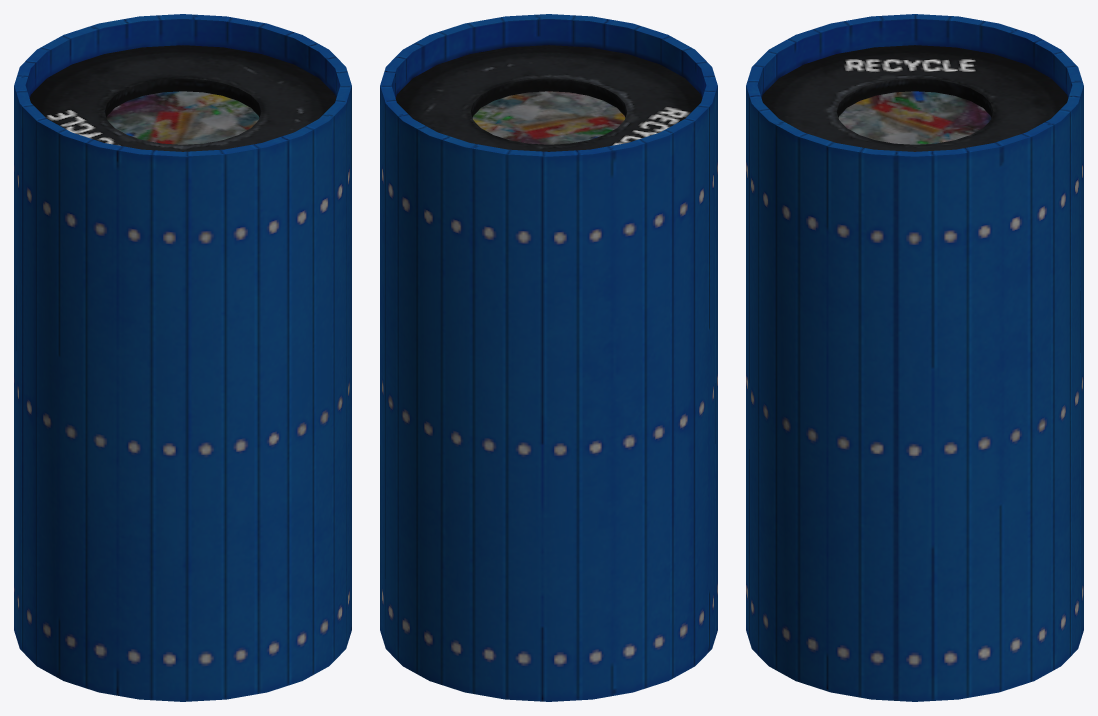
File: MB_Urn_01.fbx
3 views of the same model, side by side, from view 1: azimuth 30°, elevation 25°; view 2: azimuth 150°, elevation 25°; view 3: azimuth 270°, elevation 25° (orthographic).
Visible parts, largest first — view 1: MB_Urn_01_LOD0; view 2: MB_Urn_01_LOD0; view 3: MB_Urn_01_LOD0.
Boxes of the visible parts, bbox=[...] form: MB_Urn_01_LOD0: bbox=[14, 14, 351, 701]; MB_Urn_01_LOD0: bbox=[380, 14, 717, 701]; MB_Urn_01_LOD0: bbox=[746, 14, 1083, 701].
Size of what is drawn, in the model's own units: 36.27 by 64.61 by 36.27.
